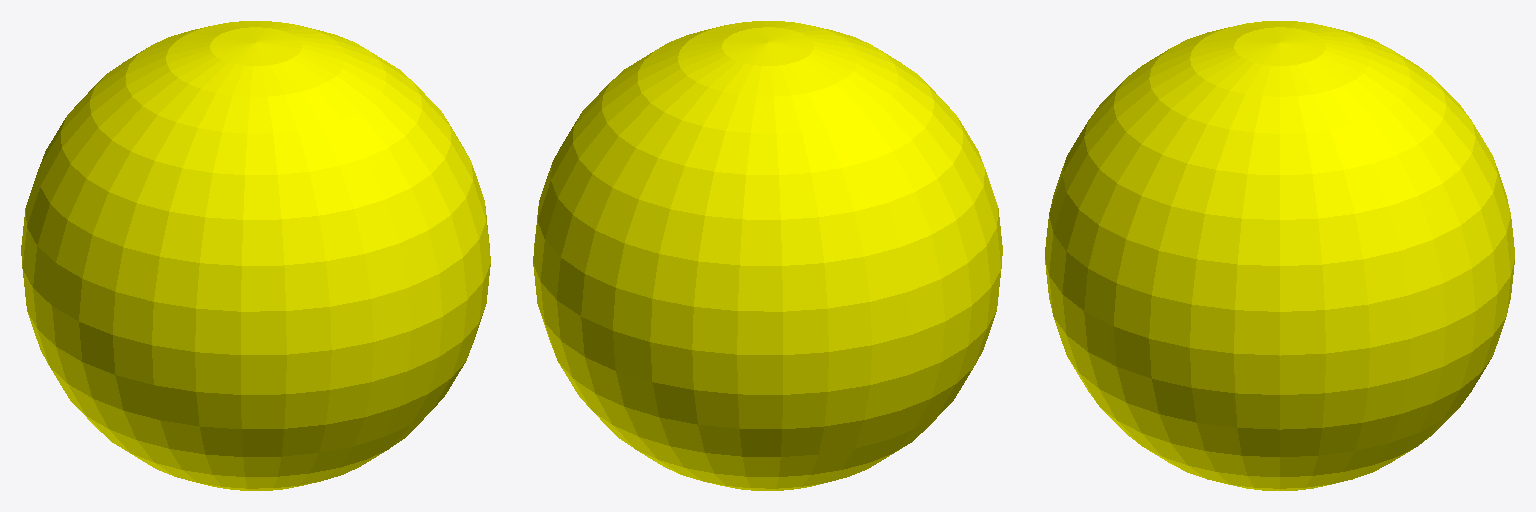
3 renders of one model, left to right at view 1: azimuth 30°, elevation 25°; view 2: azimuth 150°, elevation 25°; view 3: azimuth 270°, elevation 25°, orthographic.
Visible parts, largest first — view 1: Sphere; view 2: Sphere; view 3: Sphere.
Part boxes in pixels (x1,y1,x2,y2): Sphere: (21, 21, 490, 490); Sphere: (533, 21, 1002, 490); Sphere: (1045, 21, 1514, 490).
Bounding box in the file's own units: 2 × 2 × 2.
Materials: 1 (1 with a texture image).